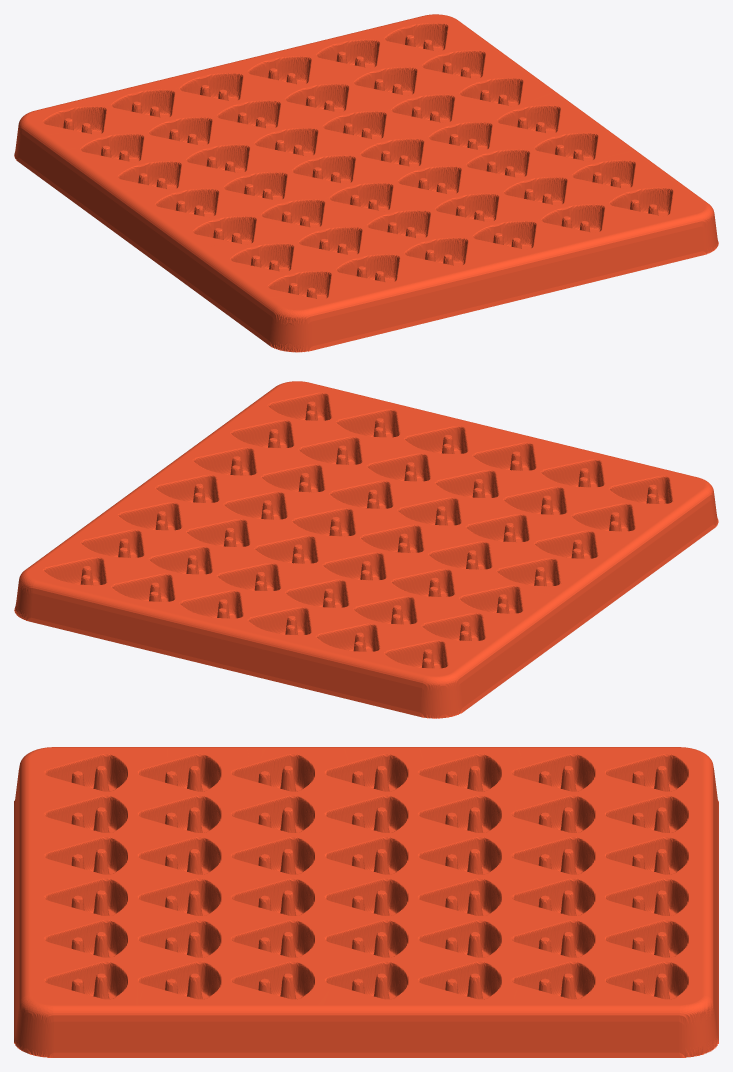
The model's file is mold.glb.
The picture shows the model from 3 angles, top to bottom: view 1: azimuth 30°, elevation 25°; view 2: azimuth 150°, elevation 25°; view 3: azimuth 270°, elevation 25°; orthographic projection. The views are drawn at different scales.
Visible parts, largest first — view 1: geometry_0; view 2: geometry_0; view 3: geometry_0.
Boxes of the visible parts, <box> form: geometry_0: <box>14,14,718,352</box>; geometry_0: <box>14,381,718,718</box>; geometry_0: <box>14,747,718,1057</box>.
Size of the model in its own units: 0.1437 by 0.0114 by 0.1581.
